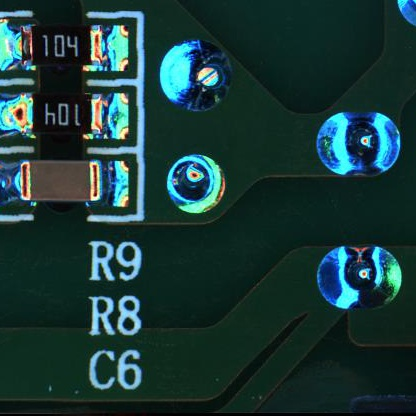spot: (309, 240, 405, 317), (155, 31, 239, 118), (309, 105, 406, 179), (162, 149, 241, 222)
